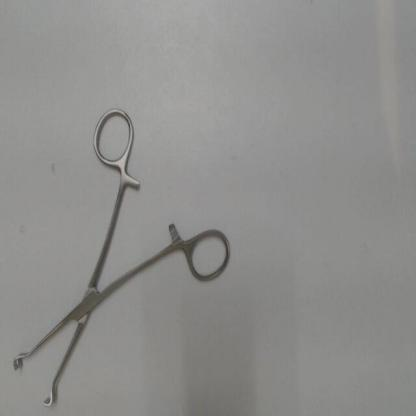Babcock Tissue Forceps: (9, 100, 233, 411)
